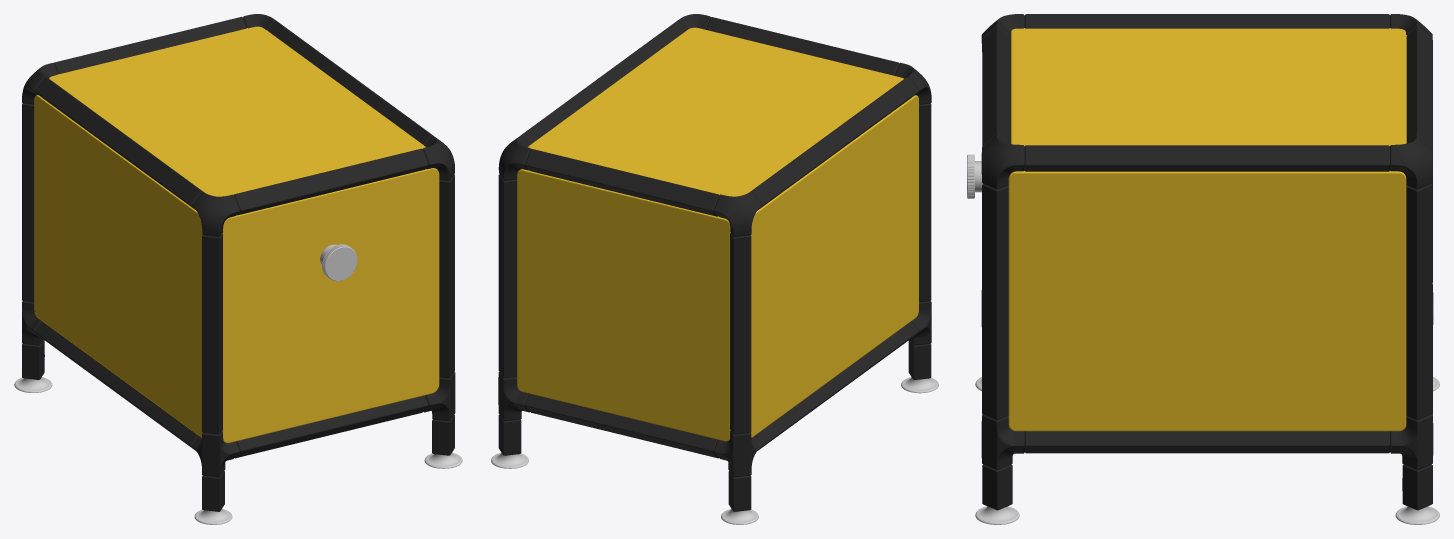
3 renders of one model, left to right at view 1: azimuth 30°, elevation 25°; view 2: azimuth 150°, elevation 25°; view 3: azimuth 270°, elevation 25°, orthographic. The views are drawn at different scales.
Parts seen in each view (by area): view 1: 229x329x229; view 2: 229x329x229; view 3: 229x329x229.
Boxes of the visible parts, x1,y1,x2,y2 form: 229x329x229: (14, 14, 462, 524); 229x329x229: (491, 14, 938, 524); 229x329x229: (967, 14, 1439, 524).
Bounding box in the file's own units: 0.3189 × 0.3683 × 0.4257.
